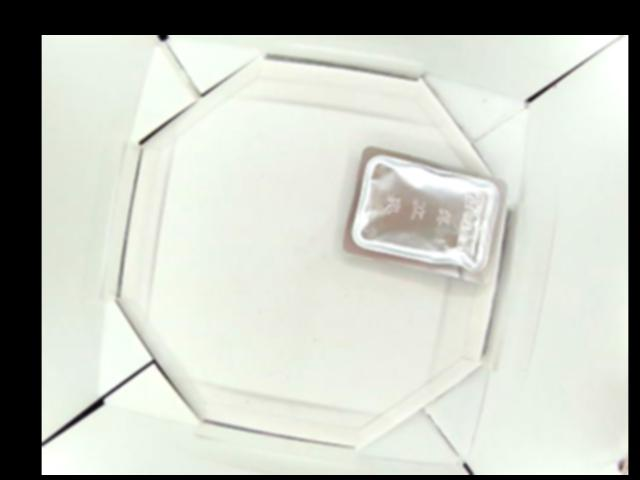Medicine: (343, 144, 504, 290)
